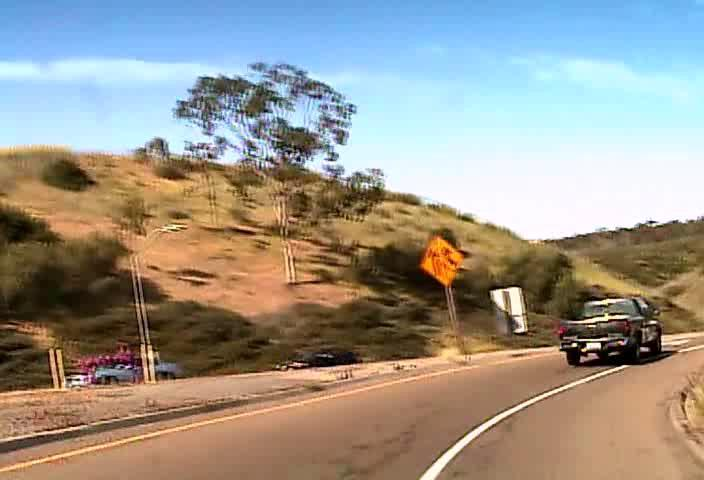addedLane: (419, 234, 465, 285)
